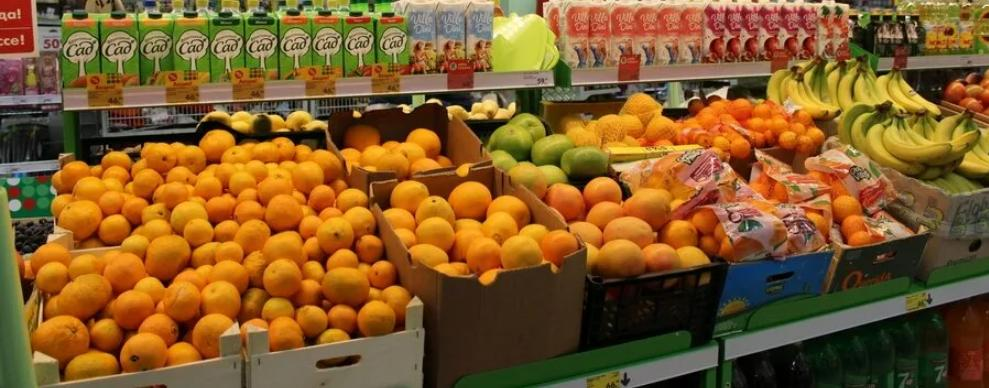banana: (845, 106, 989, 196), (766, 54, 940, 128)
mandarin: (48, 235, 410, 379), (35, 128, 361, 241), (681, 96, 823, 166)
orange: (650, 154, 910, 258), (384, 176, 579, 288), (336, 101, 484, 175), (569, 92, 679, 148)
